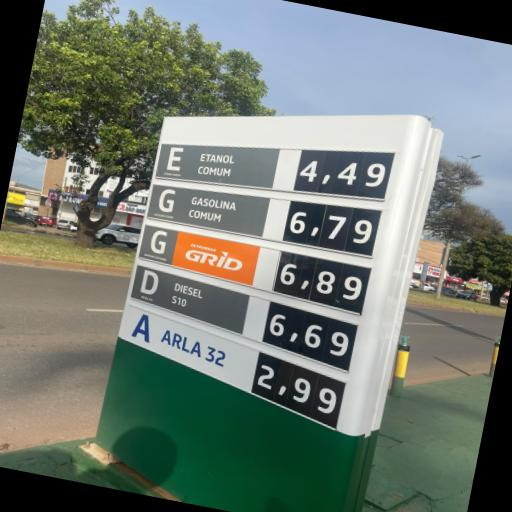ETANOL: (157, 146, 247, 187)
GASOLINA AD: (136, 227, 249, 284)
GASOLINA C: (153, 184, 248, 234)
S10: (135, 267, 210, 321)
placa: (128, 134, 402, 379)
preco: (263, 303, 356, 370), (282, 199, 383, 256), (273, 252, 369, 311), (293, 152, 392, 199)
